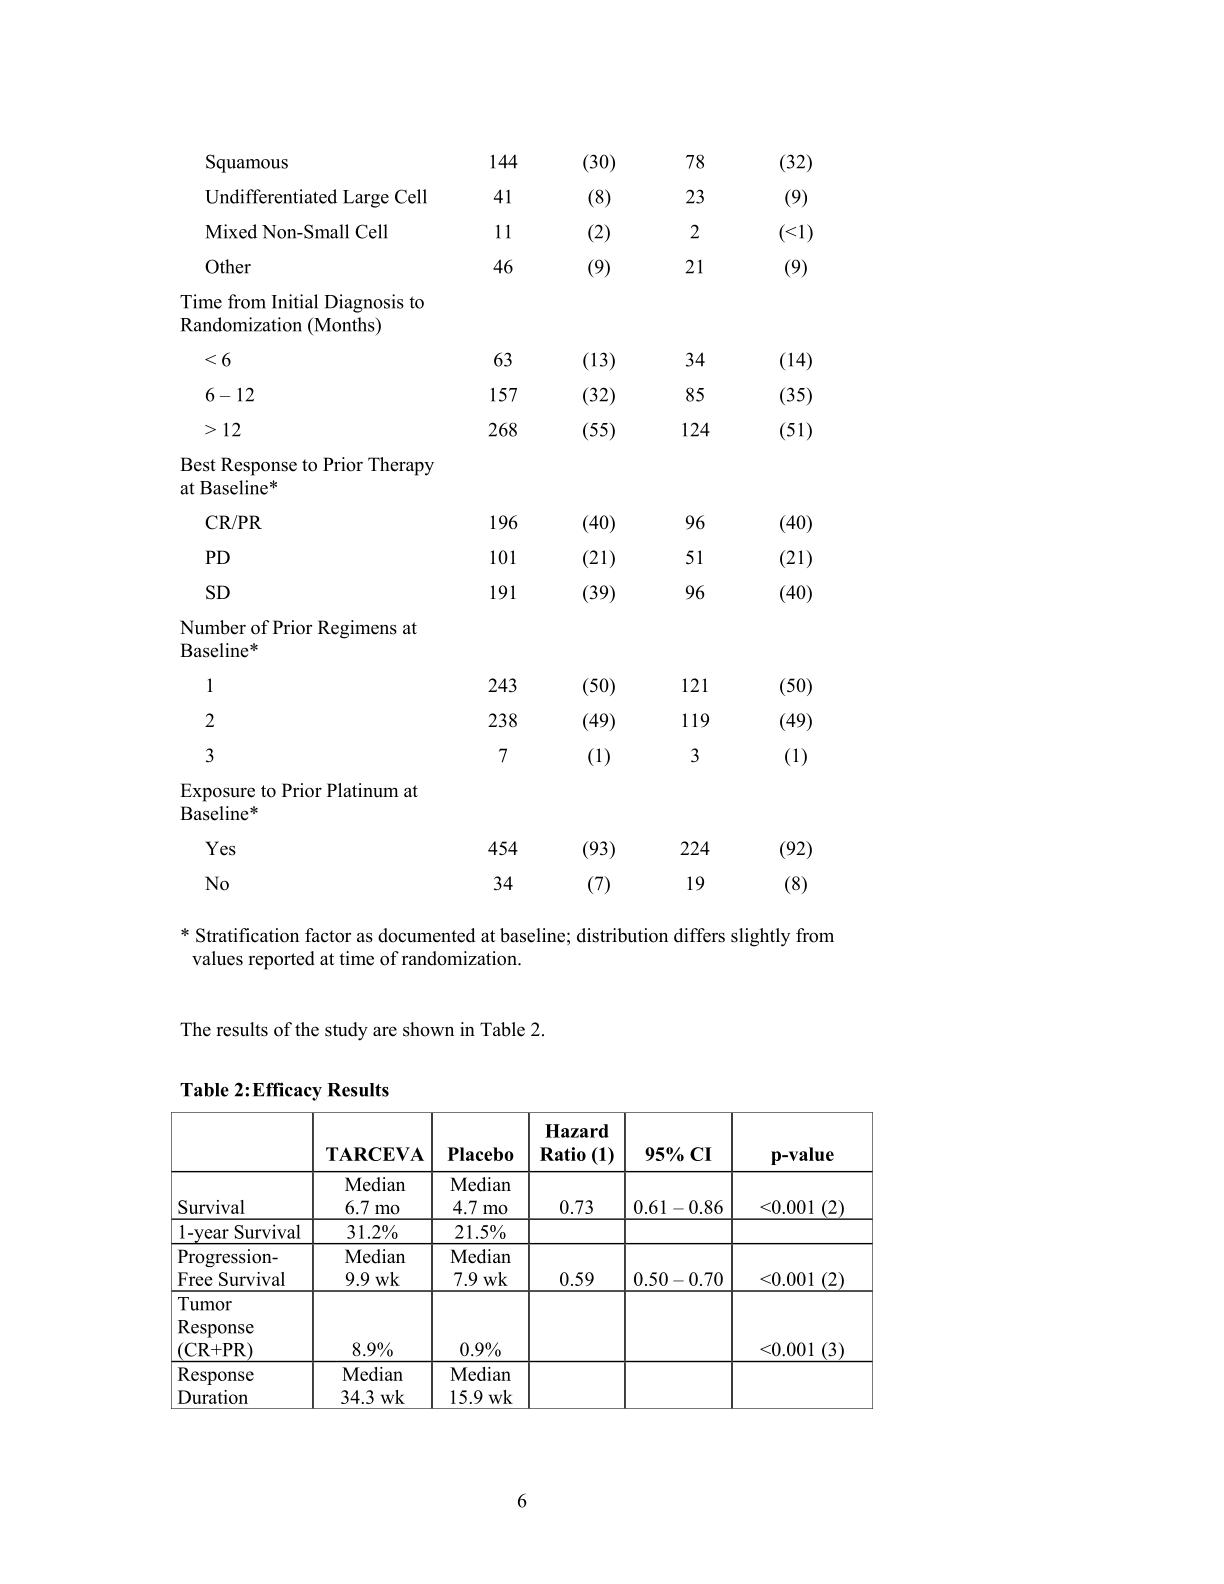full_lined: (170, 1111, 874, 1410)
nolines: (177, 149, 816, 895)
